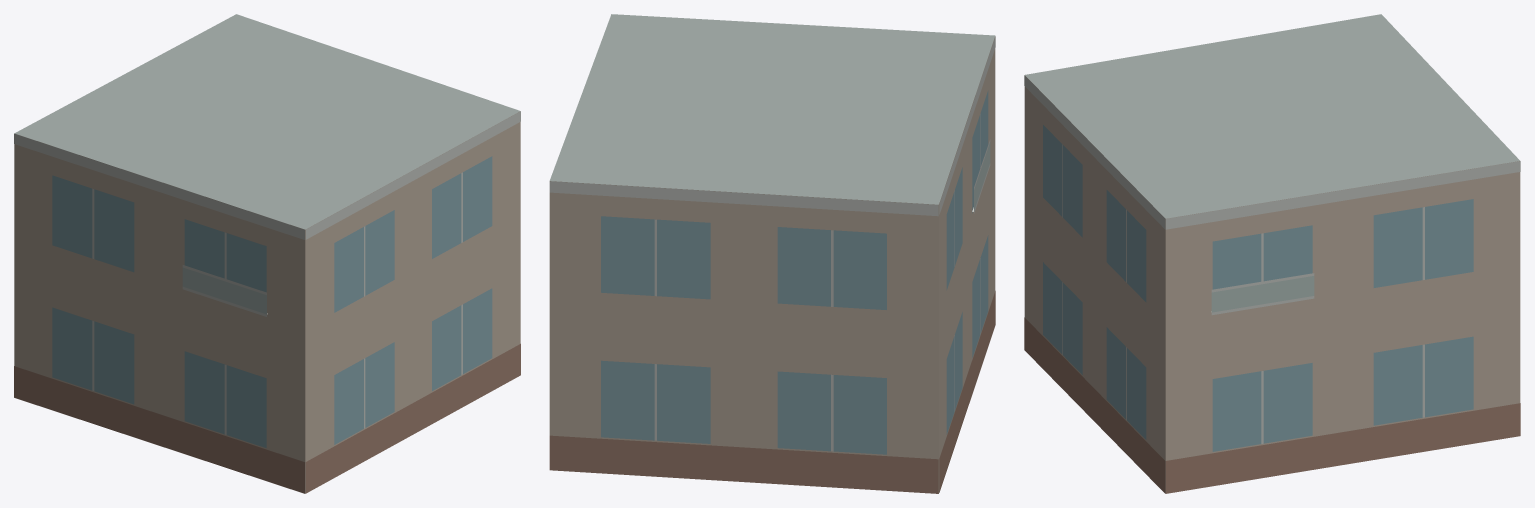
File: survey-upis-32597031.glb
3 renders of one model, left to right at view 1: azimuth 30°, elevation 25°; view 2: azimuth 150°, elevation 25°; view 3: azimuth 270°, elevation 25°, orthographic. The views are drawn at different scales.
Visible parts, largest first — view 1: survey-upis-32597031.tmp; view 2: survey-upis-32597031.tmp; view 3: survey-upis-32597031.tmp.
Boxes of the visible parts, bbox=[...] form: survey-upis-32597031.tmp: bbox=[14, 14, 520, 493]; survey-upis-32597031.tmp: bbox=[549, 14, 995, 493]; survey-upis-32597031.tmp: bbox=[1024, 14, 1520, 493].
Bounding box in the file's own units: 9.75 × 6.1 × 9.98.
